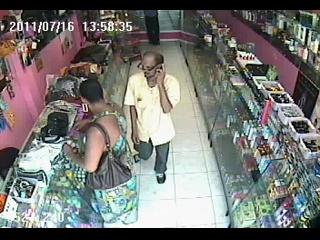Normal: (62, 79, 140, 225), (123, 51, 181, 184)
